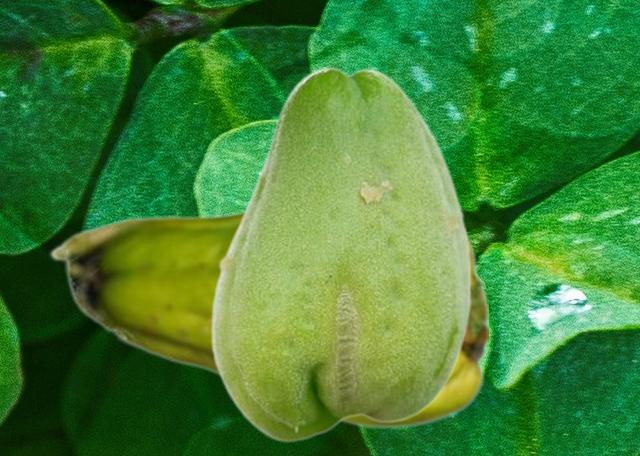sayote: (209, 65, 471, 441), (48, 207, 487, 429)
